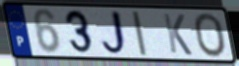3: (64, 8, 97, 57)
6: (32, 7, 63, 56)
I: (129, 10, 149, 58)
J: (100, 9, 131, 58)
K: (161, 12, 194, 57)
O: (192, 12, 228, 59)
